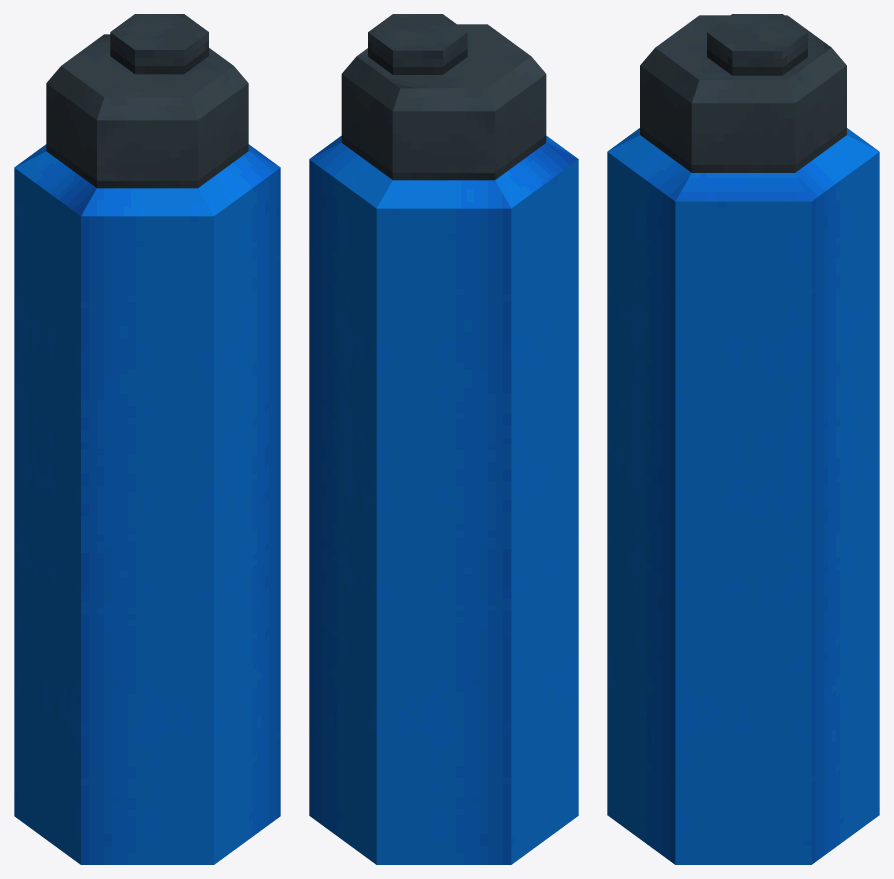
File: water_bottle.glb
3 renders of one model, left to right at view 1: azimuth 30°, elevation 25°; view 2: azimuth 150°, elevation 25°; view 3: azimuth 270°, elevation 25°, orthographic. The views are drawn at different scales.
Parts seen in each view (by area): view 1: Circle; view 2: Circle; view 3: Circle.
Boxes of the visible parts, bbox=[...] form: Circle: bbox=[14, 14, 280, 864]; Circle: bbox=[309, 14, 578, 864]; Circle: bbox=[607, 14, 879, 864].
Bounding box in the file's own units: 0.6082 × 2.25 × 0.7022.
1 material, 1 textured.
